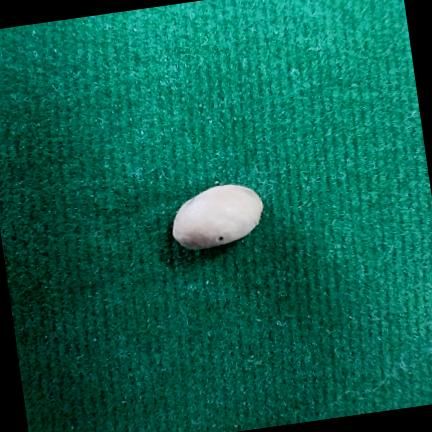shell: (172, 184, 262, 249)
